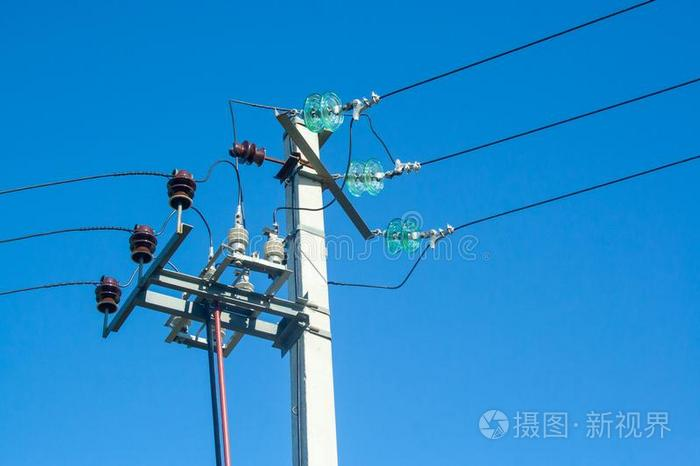insulator: (303, 93, 344, 132), (383, 216, 423, 254), (163, 174, 199, 213), (345, 159, 382, 195), (129, 230, 158, 264), (237, 140, 267, 170), (93, 282, 121, 313)
